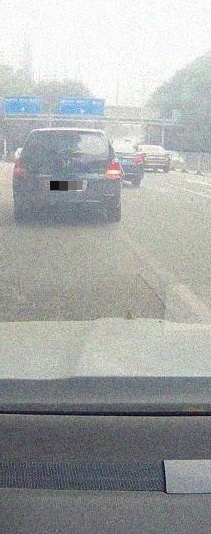L_light: (13, 160, 25, 177)
R_light: (105, 160, 121, 179)
T_light: (60, 131, 72, 134)
day-right: (12, 129, 121, 221)
plate_1: (50, 181, 82, 191)
